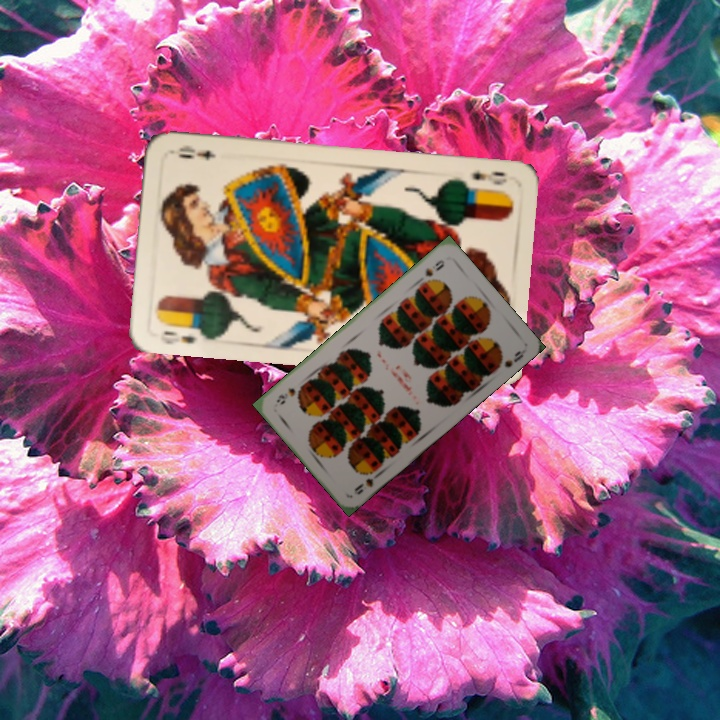EO: (156, 326, 198, 347), (468, 167, 510, 188)
S9: (350, 468, 384, 498), (421, 255, 447, 279)
